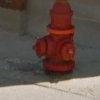Hydrant: (31, 1, 87, 79)
